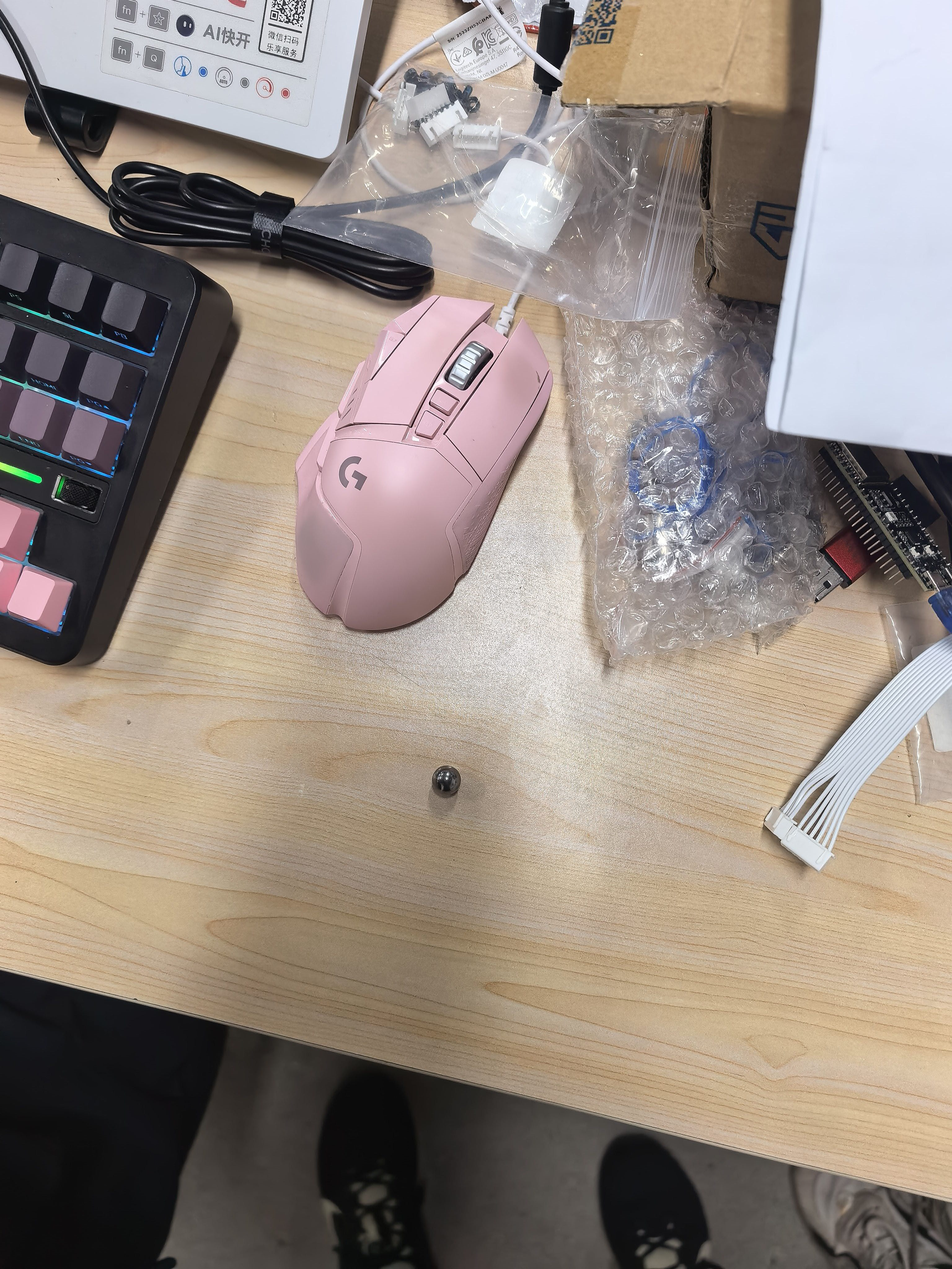ball: (432, 762, 461, 799)
